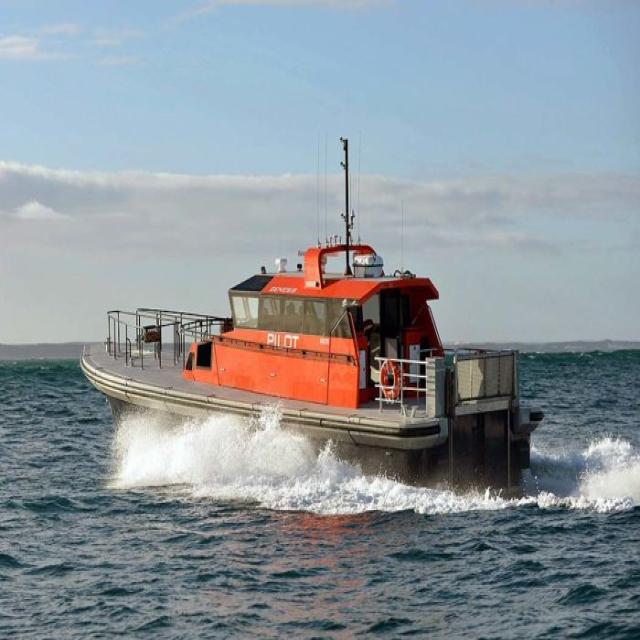houseboat: (76, 210, 528, 512)
